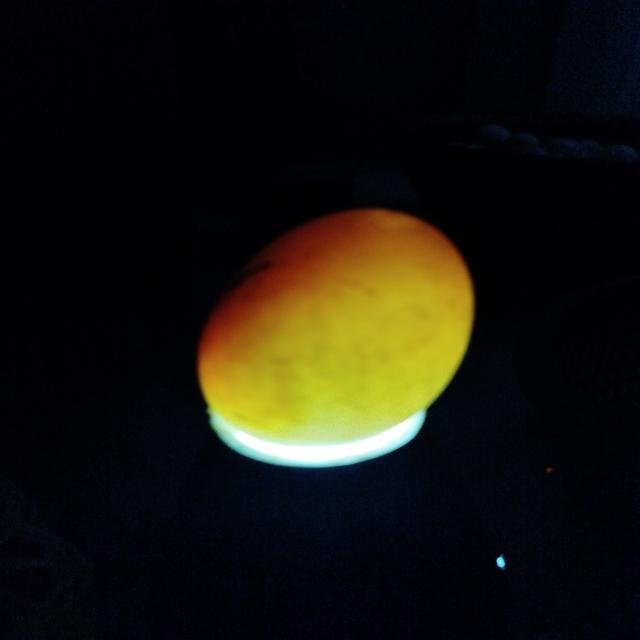Area Infectada: (215, 250, 283, 310)
